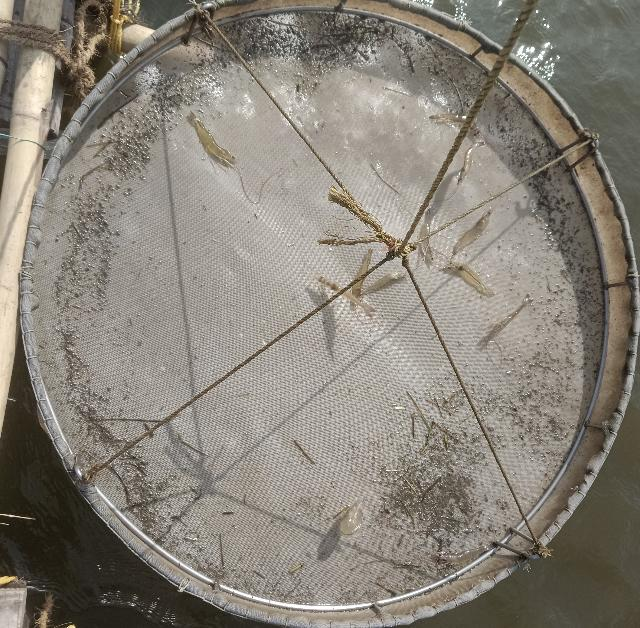shrimp: (478, 295, 533, 351), (313, 274, 375, 319), (187, 112, 236, 166), (453, 208, 492, 255), (443, 262, 494, 297), (455, 141, 484, 185), (360, 273, 408, 295), (351, 248, 372, 298), (434, 546, 487, 565), (339, 503, 362, 536), (418, 236, 435, 270), (430, 113, 467, 126)
